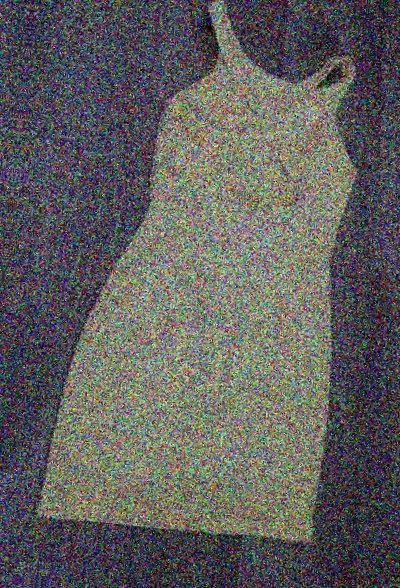Dress: (26, 0, 393, 578)
